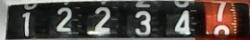digits: (207, 0, 233, 37), (86, 6, 110, 34), (174, 9, 191, 34), (135, 10, 151, 35), (56, 6, 72, 31), (21, 11, 31, 35)
